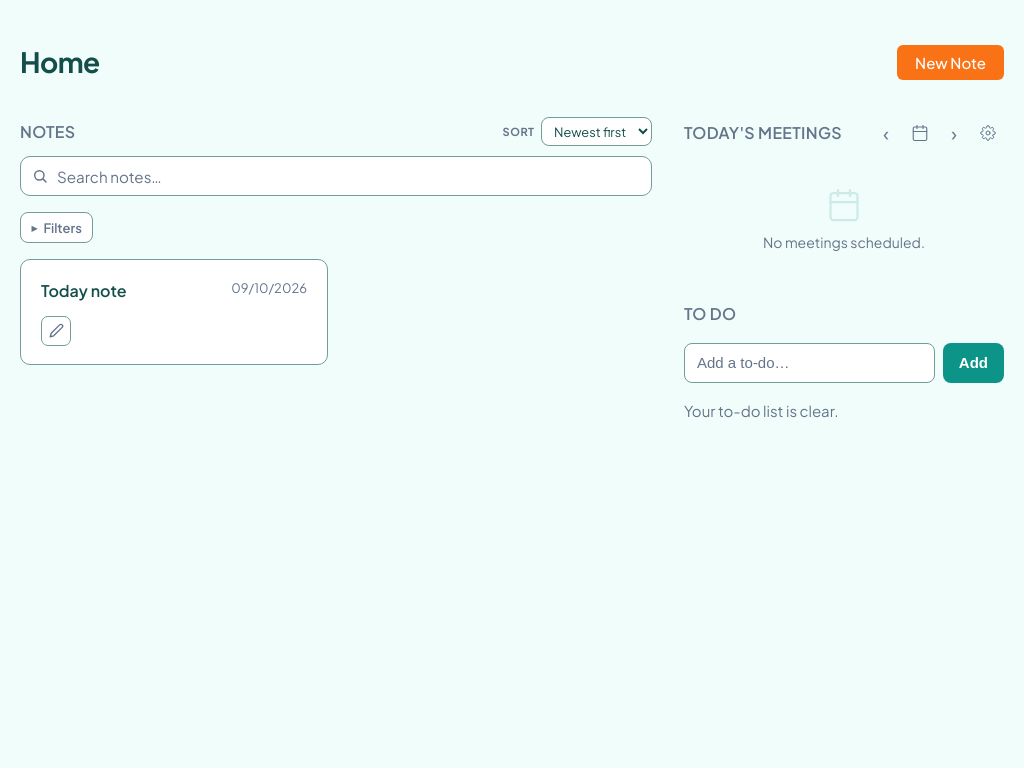
40-B — month grouping › groups by month on a wide, date-sorted range
The image size is (1024, 768).
Click the button "▸ Filters" at (57,228), box [20,212,93,243]
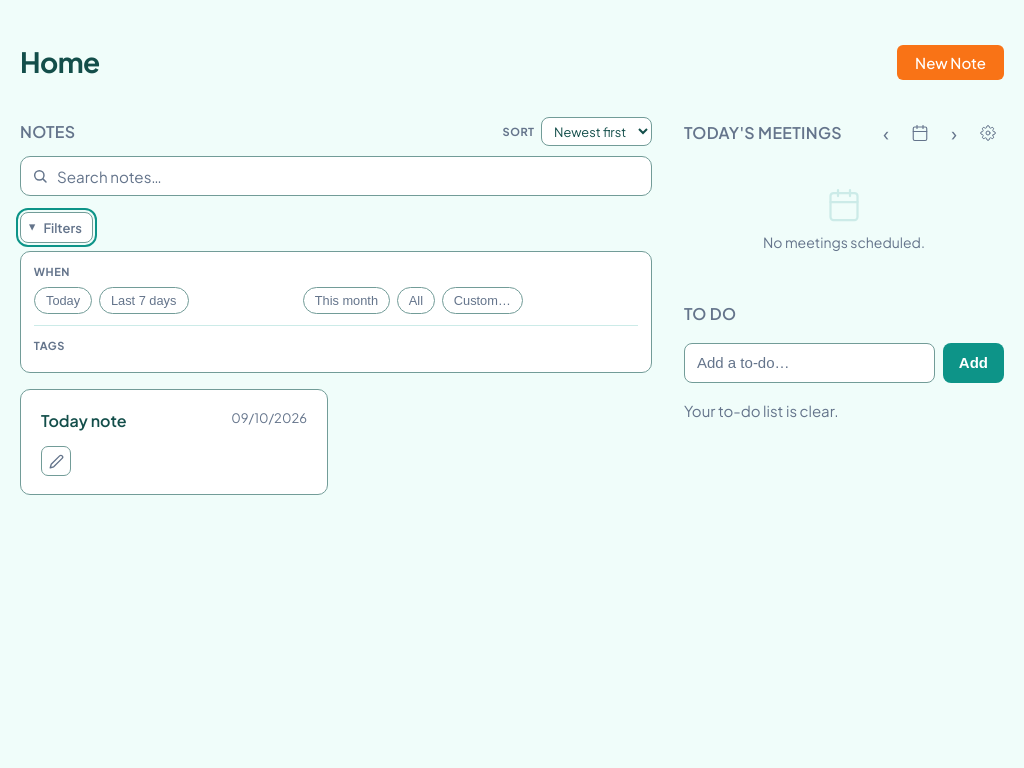
Click the button with test id "range-preset-all" at (416,300), box [397,287,435,314]
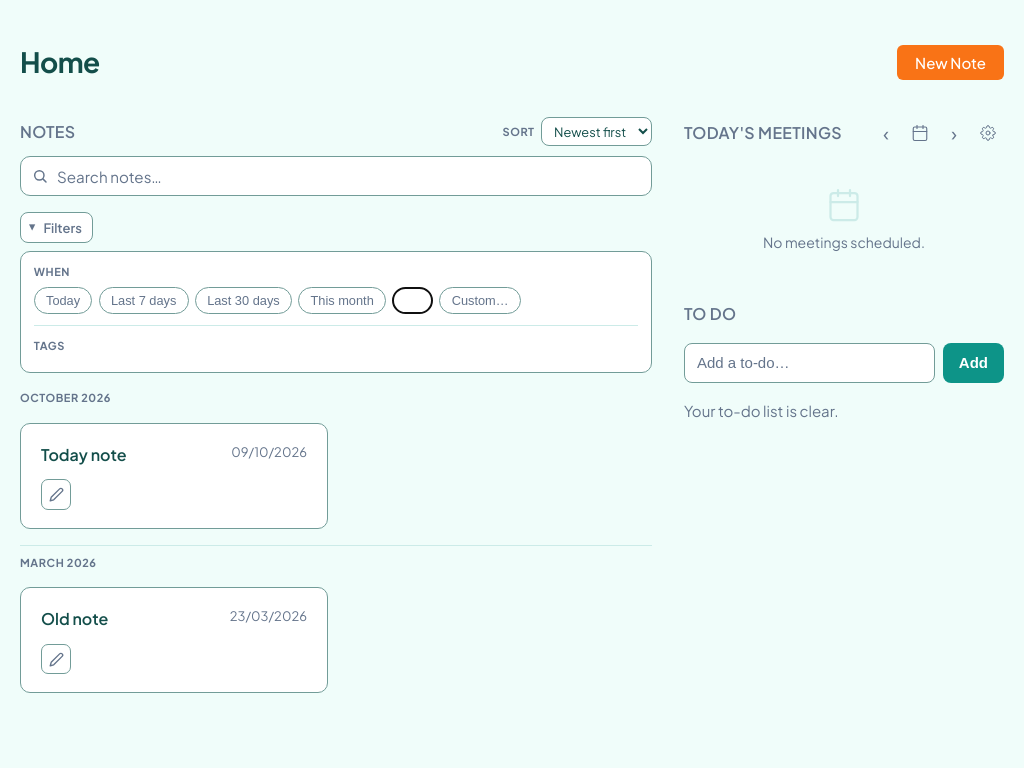
Check: the heading "Old note" is shown, box [41,608,108,629]
